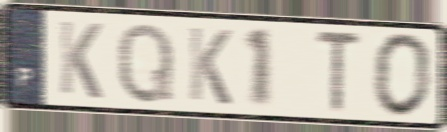1: (240, 25, 275, 111)
K: (57, 17, 105, 102), (187, 23, 234, 109)
O: (370, 30, 434, 121)
Q: (115, 19, 176, 107)
T: (314, 27, 364, 116)
